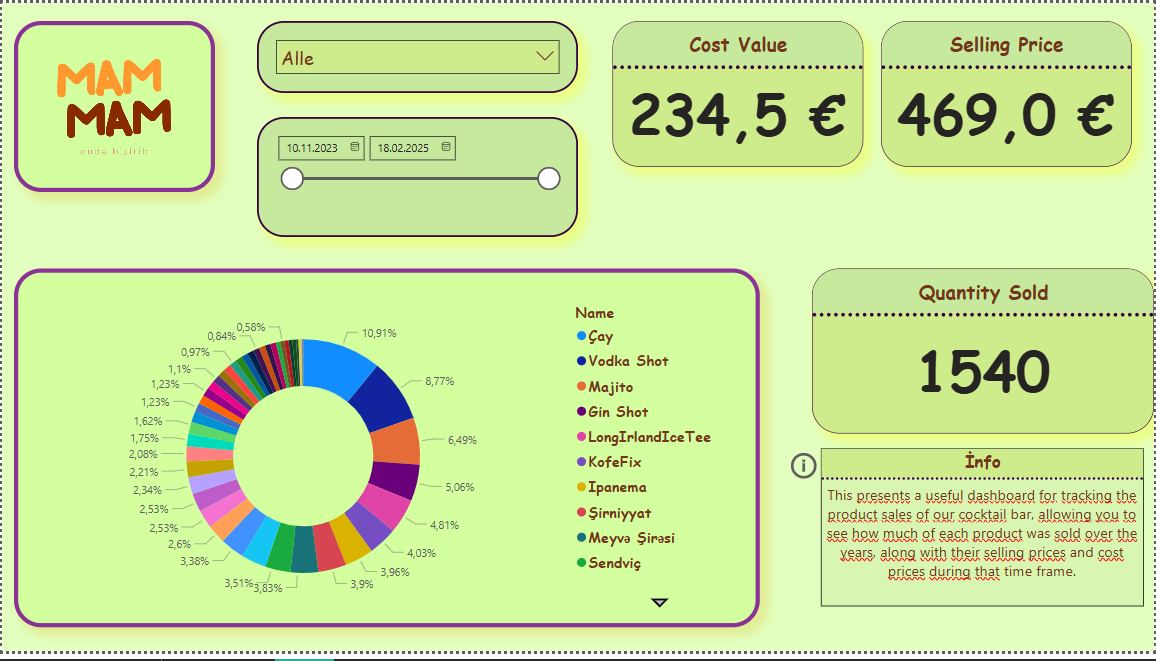

Layout of this report page (visuals, bound fields, positions):
{"tool":"powerbi","page":{"name":"Seite 1","canvas":[1280,720],"ordinal":0},"visuals":[{"type":"image","box":[13.3,20,223.3,190],"z":0},{"type":"slicer","fields":{"Values":["Mehsullar.Ad"]},"box":[283.3,20,356.7,80],"z":1},{"type":"card","title":"Cost Value","fields":{"Values":["Sum(Mehsullar.Mayasi)"]},"box":[678.3,20,278.3,161.7],"z":2},{"type":"card","title":"Selling Price","fields":{"Values":["Sum(Mehsullar.Qiymet)"]},"box":[976.7,20,278.3,161.7],"z":3},{"type":"card","title":"Quantity Sold","fields":{"Values":["Sum(Satislar.SatilanMiqdar)"]},"box":[900,295,380,183.3],"z":4},{"type":"slicer","fields":{"Values":["Satislar.Tarix"]},"box":[283.3,126.7,356.7,133.3],"z":5},{"type":"donutChart","title":" ","fields":{"Category":["Mehsullar.Ad"],"Y":["Sum(Satislar.SatilanMiqdar)"]},"box":[13.3,295,828.3,398.3],"z":6},{"type":"actionButton","box":[871.7,495,41.7,38.3],"z":7},{"type":"textbox","title":"İnfo","box":[910,495,358.3,175],"z":9}]}

Visuals, with their boxes in screenshot pixels (x1, y1, x2, y2), scaled from the page's 1280x720 canvas onto the 1156x661 screenshot:
image: pyautogui.locateOnScreen(12, 18, 214, 193)
slicer - Mehsullar.Ad: pyautogui.locateOnScreen(256, 18, 578, 92)
"Cost Value" card: pyautogui.locateOnScreen(613, 18, 864, 167)
"Selling Price" card: pyautogui.locateOnScreen(882, 18, 1133, 167)
"Quantity Sold" card: pyautogui.locateOnScreen(813, 271, 1155, 439)
slicer - Satislar.Tarix: pyautogui.locateOnScreen(256, 116, 578, 239)
" " donutChart: pyautogui.locateOnScreen(12, 271, 760, 636)
actionButton: pyautogui.locateOnScreen(787, 454, 825, 490)
"İnfo" textbox: pyautogui.locateOnScreen(822, 454, 1145, 615)
